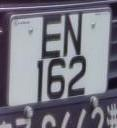1: (33, 58, 46, 104)
2: (66, 53, 88, 98)
6: (45, 56, 68, 101)
E: (39, 9, 66, 63)
N: (63, 7, 85, 62)
